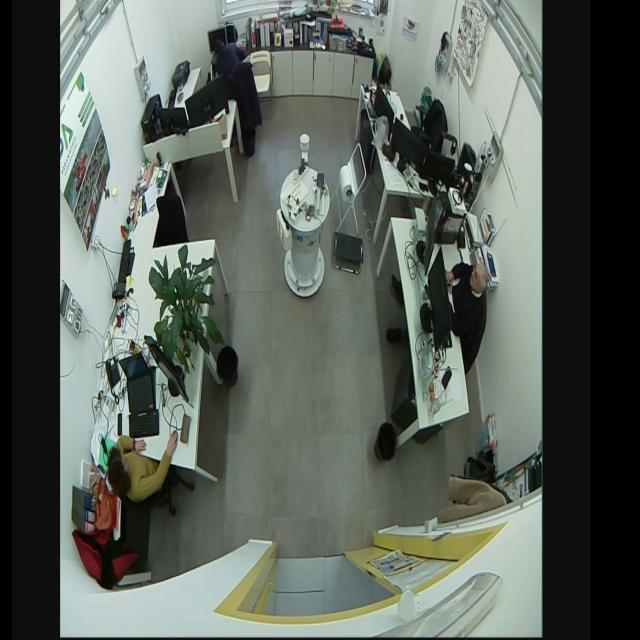Persona: (107, 421, 179, 507), (444, 251, 489, 338)
